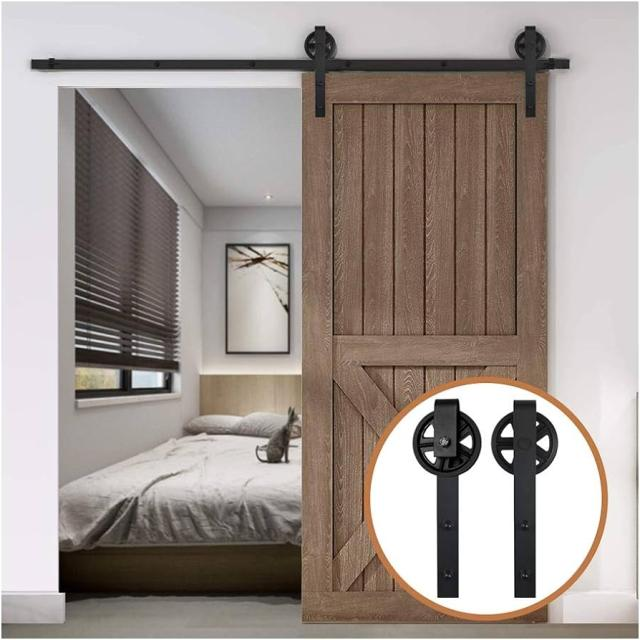door: (301, 69, 552, 624)
